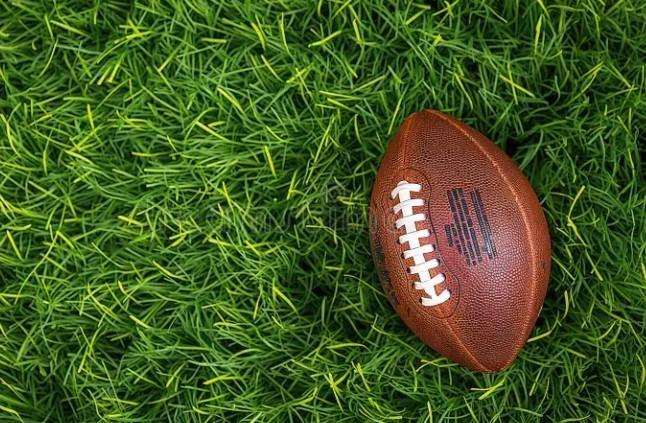Sports-Ball: (370, 110, 550, 372)
